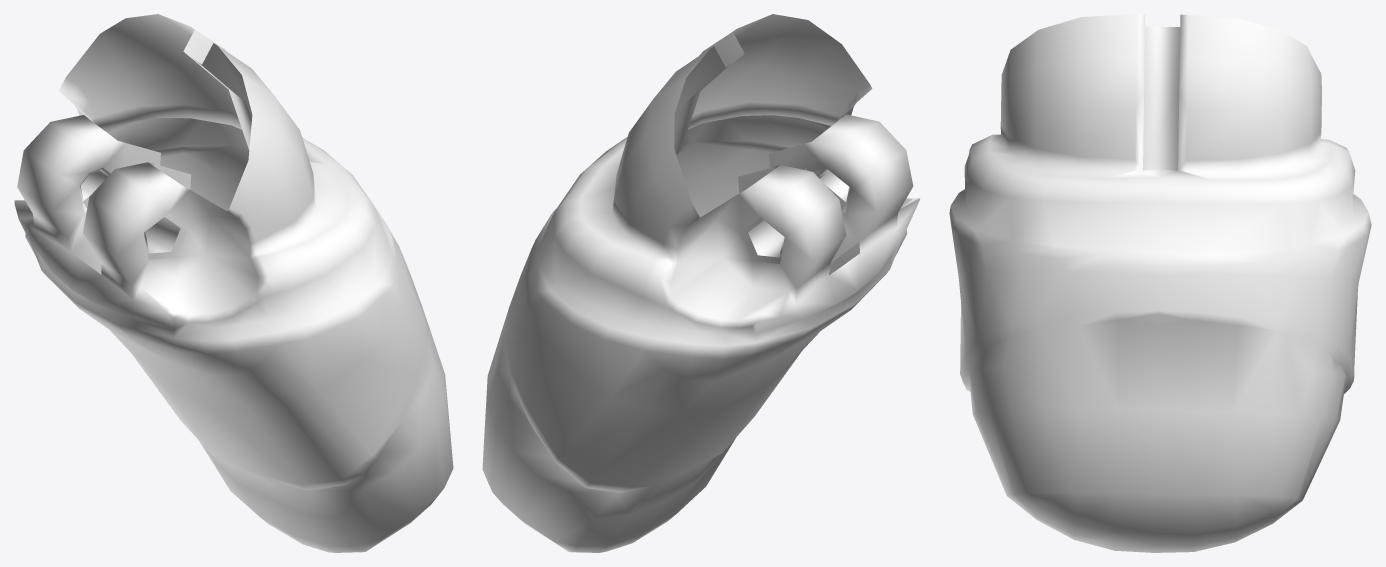
The model's file is RThumb2.dae.
The picture shows the model from 3 angles, left to right: view 1: azimuth 30°, elevation 25°; view 2: azimuth 150°, elevation 25°; view 3: azimuth 270°, elevation 25°; orthographic projection. The views are drawn at different scales.
Visible parts, largest first — view 1: RThumb2; view 2: RThumb2; view 3: RThumb2.
Part boxes in pixels (x1,y1,x2,y2): RThumb2: (14,14,453,552); RThumb2: (482,14,919,552); RThumb2: (949,14,1371,552).
Size of the model in its own units: 0.1435 by 0.1622 by 0.2047.
1 material, 1 textured.
